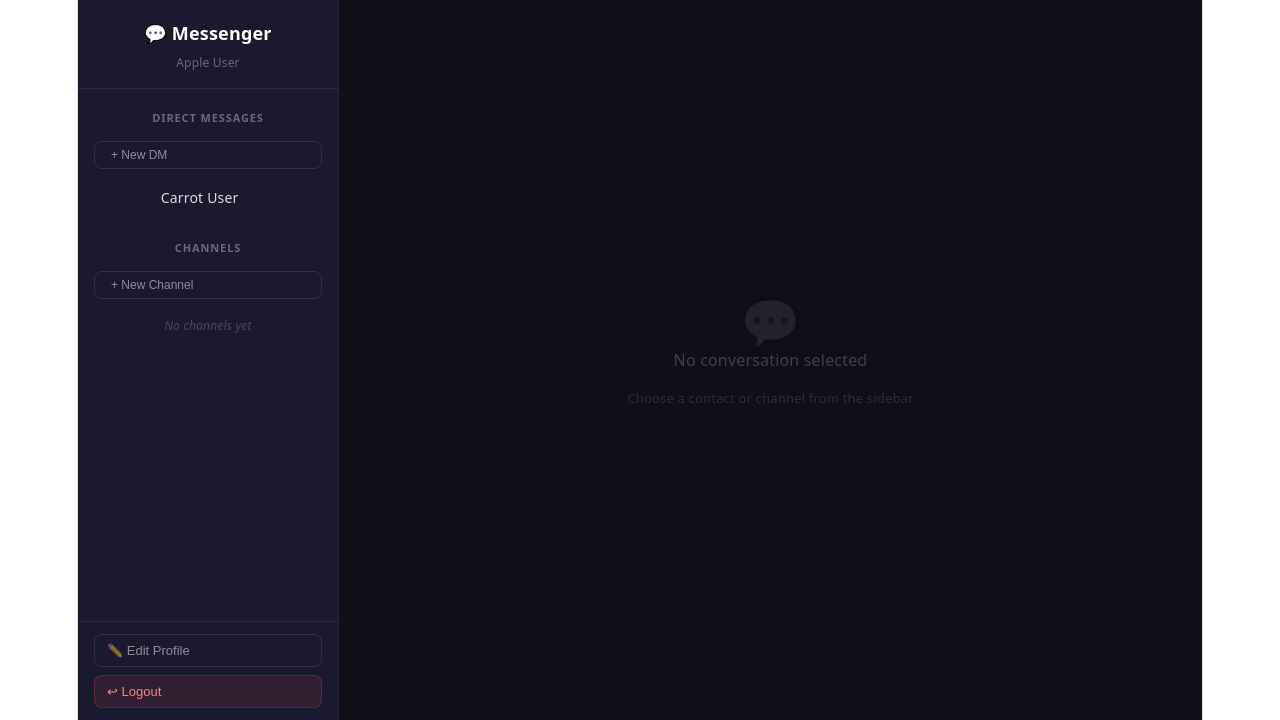
Test: Security Tests › XSS: img onerror payload in message is rendered as plain text
The image size is (1280, 720).
What coordinates should you click on to do the following:
click the text "Carrot User"
I would click on:
 (200, 198)
Its box is [161,188,239,207].
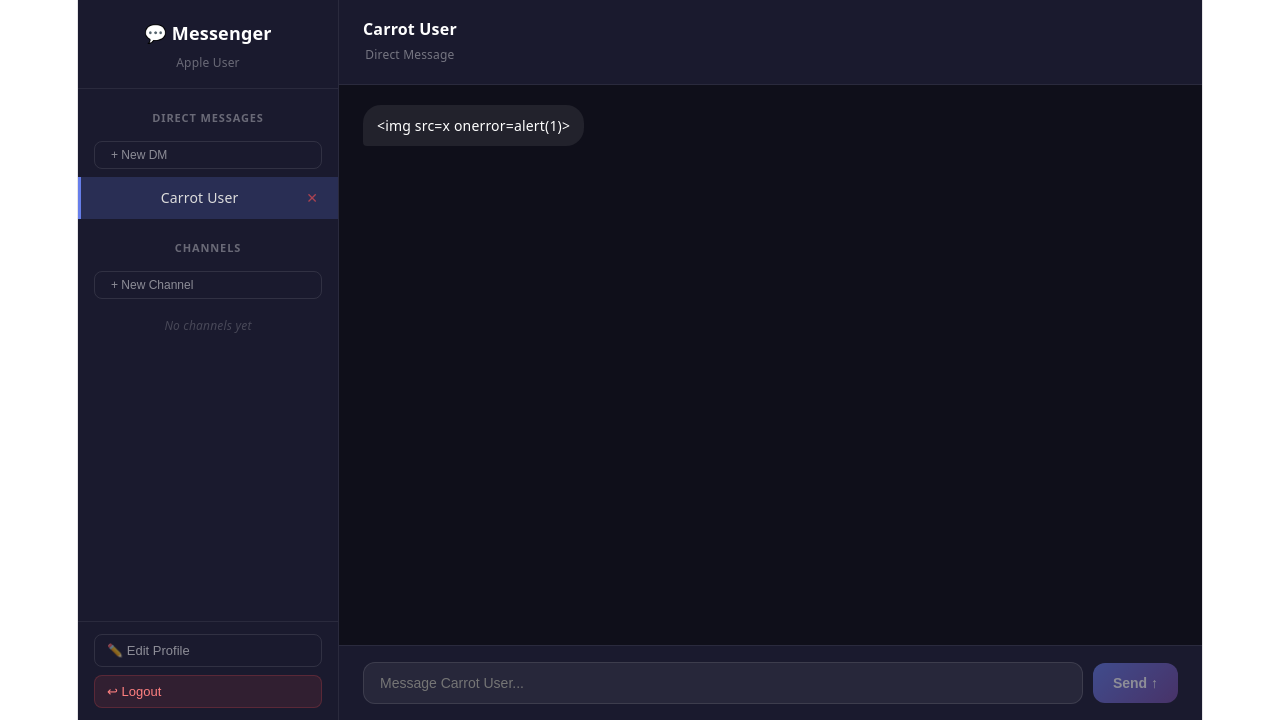
Now the text "<img src=x onerror=alert(1)>" is shown, box [363,105,584,146]
